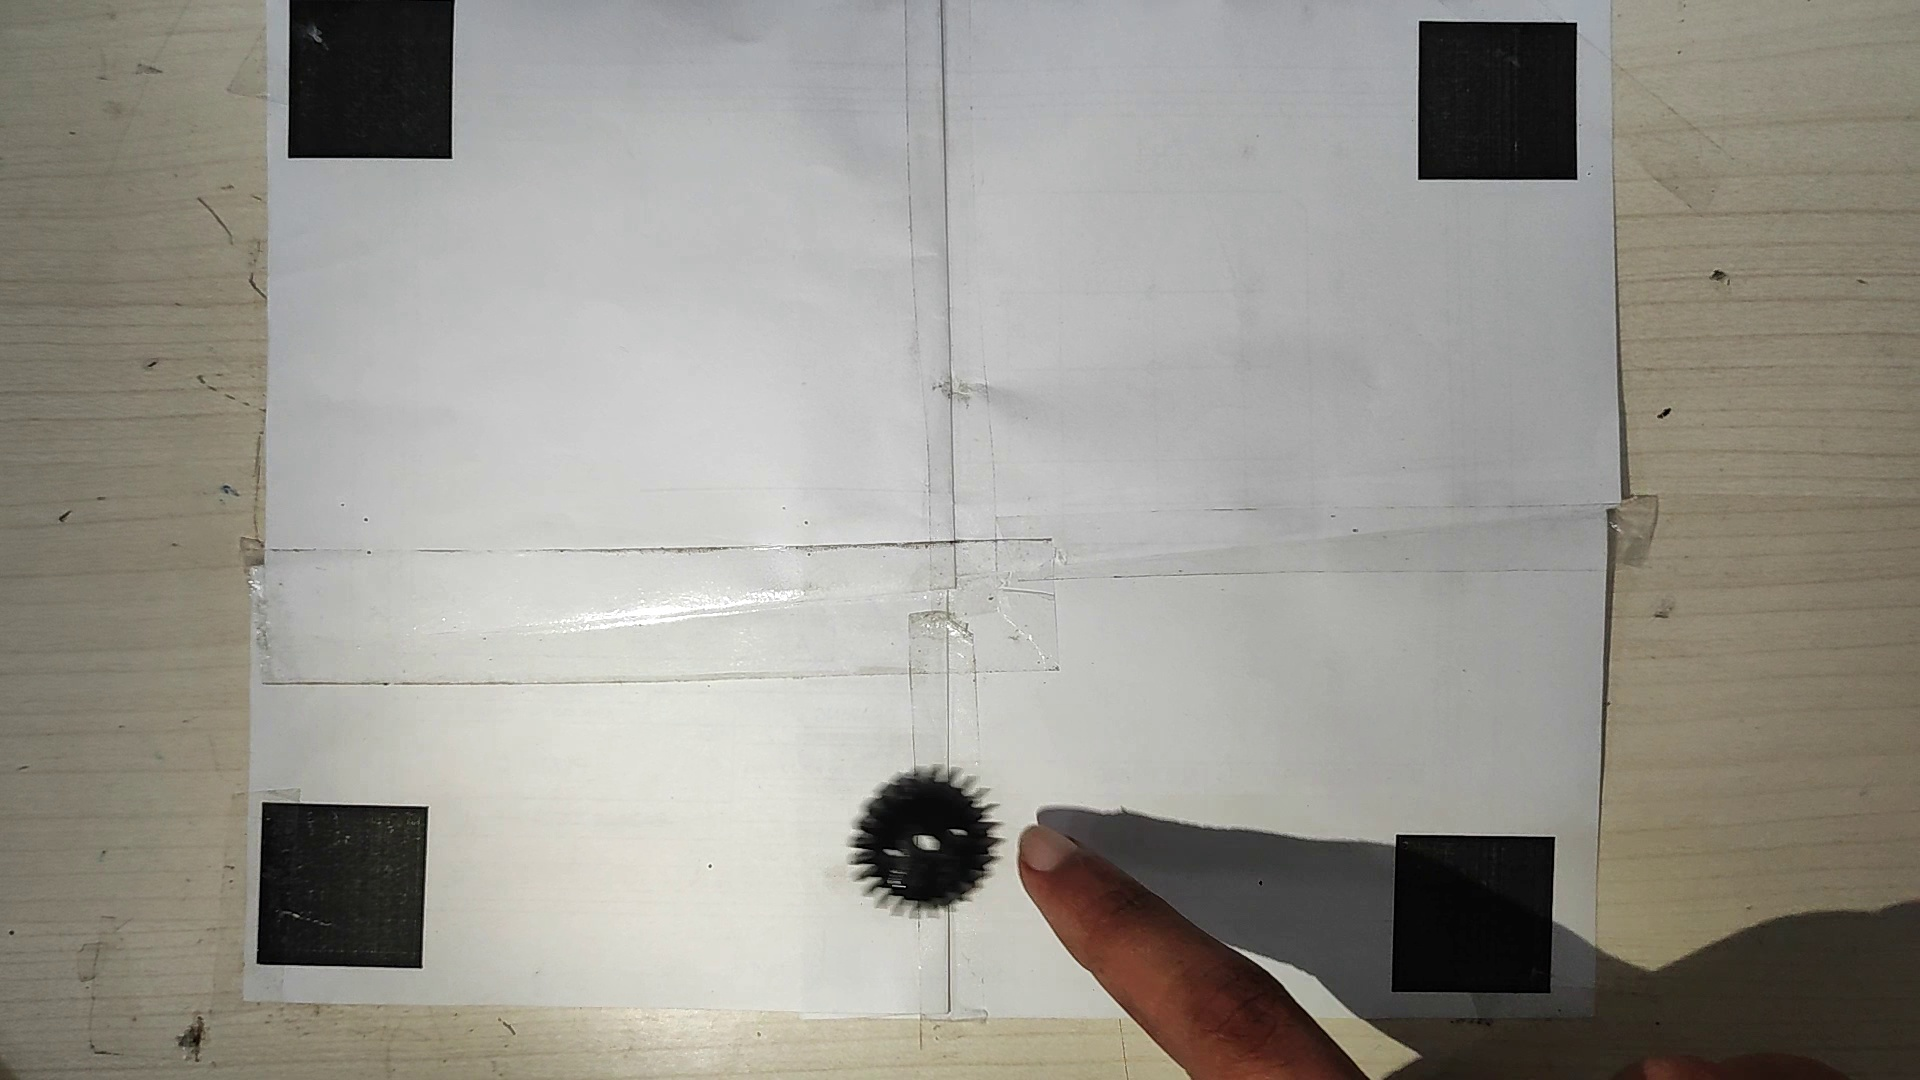Gear: (843, 758, 1005, 920)
